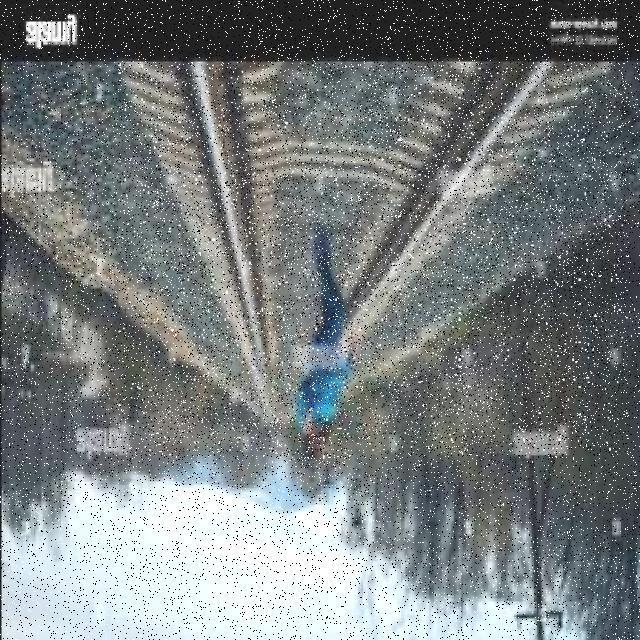danger: (298, 212, 350, 465)
rail: (118, 63, 626, 453)
